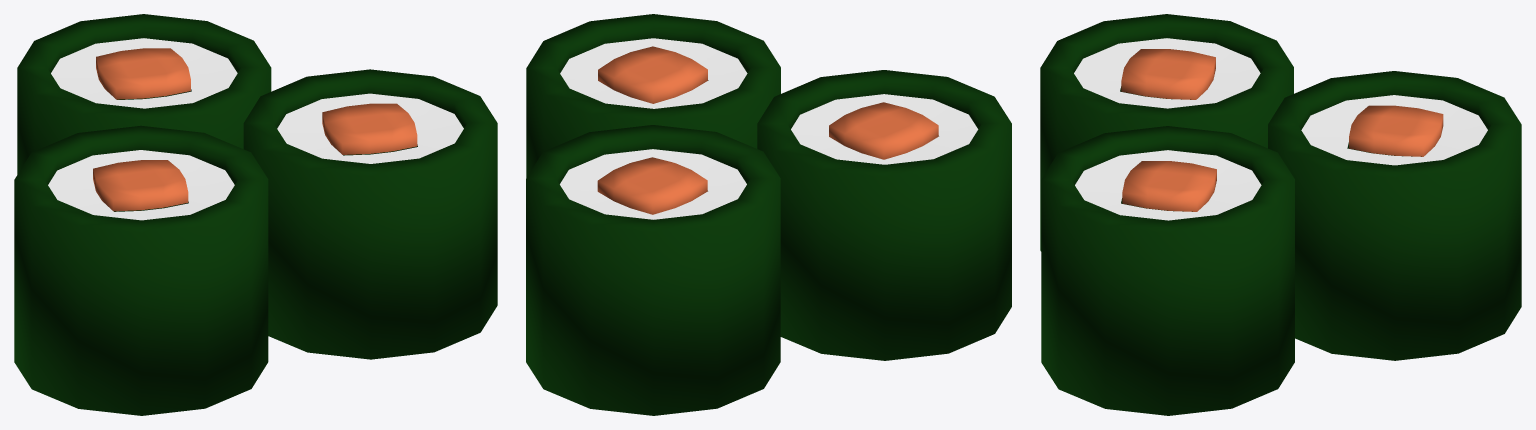
The model's file is rl_sushi_3.fbx.
The picture shows the model from 3 angles, left to right: view 1: azimuth 30°, elevation 25°; view 2: azimuth 150°, elevation 25°; view 3: azimuth 270°, elevation 25°; orthographic projection.
Visible parts, largest first — view 1: seaweed_1.001, seaweed_1, seaweed_1.002, rice_1.002, rice_1, rice_1.001, filling_1, filling_1.001, filling_1.002; view 2: seaweed_1.002, seaweed_1.001, seaweed_1, rice_1.001, rice_1.002, rice_1, filling_1.002, filling_1.001, filling_1; view 3: seaweed_1, seaweed_1.002, seaweed_1.001, rice_1.002, rice_1, rice_1.001, filling_1.002, filling_1, filling_1.001.
Boxes of the visible parts, left/top/right/bottom form: seaweed_1.001: left=14, top=125, right=268, bottom=415; seaweed_1: left=243, top=69, right=497, bottom=359; seaweed_1.002: left=17, top=14, right=271, bottom=174; rice_1.002: left=51, top=38, right=237, bottom=108; rice_1: left=277, top=93, right=463, bottom=163; rice_1.001: left=48, top=150, right=234, bottom=220; filling_1: left=322, top=103, right=417, bottom=154; filling_1.001: left=93, top=160, right=188, bottom=211; filling_1.002: left=96, top=48, right=190, bottom=99; seaweed_1.002: left=526, top=125, right=780, bottom=415; seaweed_1.001: left=757, top=70, right=1011, bottom=360; seaweed_1: left=526, top=14, right=780, bottom=177; rice_1.001: left=791, top=94, right=978, bottom=164; rice_1.002: left=560, top=149, right=746, bottom=219; rice_1: left=560, top=38, right=747, bottom=108; filling_1.002: left=597, top=157, right=707, bottom=214; filling_1.001: left=829, top=102, right=938, bottom=159; filling_1: left=598, top=46, right=707, bottom=103; seaweed_1: left=1041, top=126, right=1294, bottom=415; seaweed_1.002: left=1268, top=71, right=1521, bottom=360; seaweed_1.001: left=1040, top=14, right=1293, bottom=251; rice_1.002: left=1301, top=95, right=1487, bottom=165; rice_1: left=1075, top=150, right=1261, bottom=220; rice_1.001: left=1074, top=38, right=1260, bottom=108; filling_1.002: left=1349, top=105, right=1443, bottom=156; filling_1: left=1122, top=161, right=1216, bottom=211; filling_1.001: left=1121, top=49, right=1215, bottom=99.
Size of the model in its own units: 182 by 70.69 by 169.
